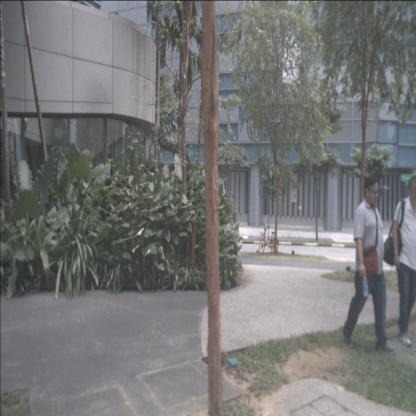human-pedestrian-adult: (342, 174, 397, 352), (380, 176, 416, 348)
vehicle-bicycle: (258, 223, 278, 254)
